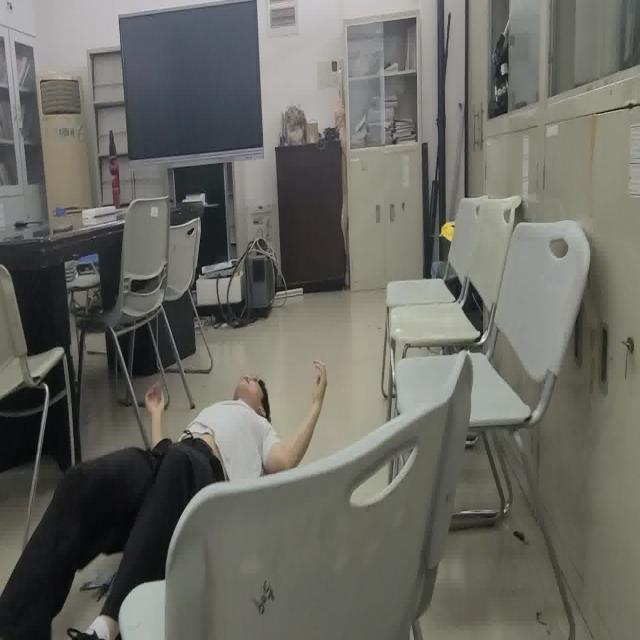fall: (0, 364, 330, 640)
